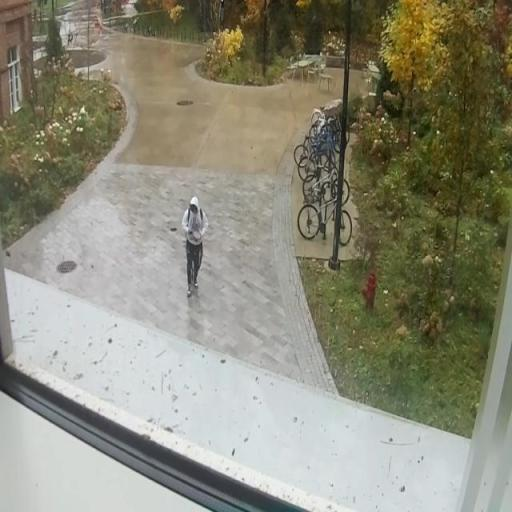pessoa: (180, 194, 208, 300)
